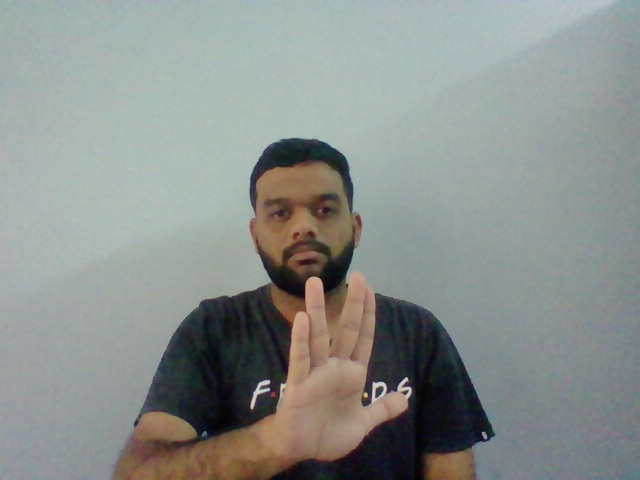Live long and prosper: (283, 273, 408, 453)
